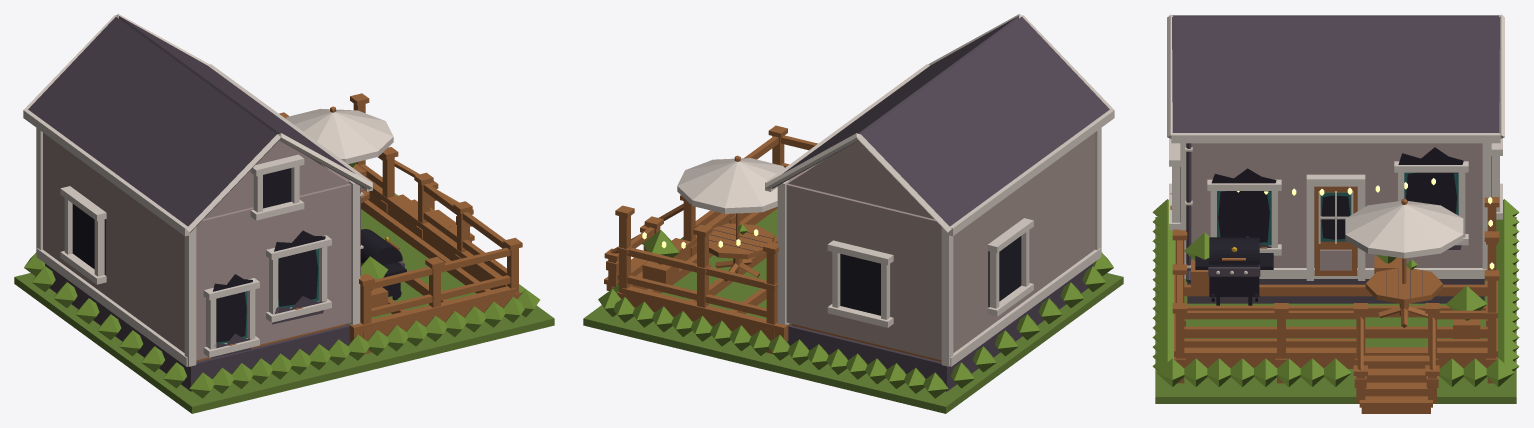
3 views of the same model, side by side, from view 1: azimuth 30°, elevation 25°; view 2: azimuth 150°, elevation 25°; view 3: azimuth 270°, elevation 25° (orthographic).
Parts seen in each view (by area): view 1: root_pal_picketWhite, roof_pal_picketWhite, body_pal_picketWhite, door_grill_lid_pal_picketWhite; view 2: root_pal_picketWhite, roof_pal_picketWhite, body_pal_picketWhite; view 3: root_pal_picketWhite, roof_pal_picketWhite, body_pal_picketWhite, door_back_pal_picketWhite, door_grill_lid_pal_picketWhite.
Boxes of the visible parts, x1,y1,x2,y2 form: root_pal_picketWhite: (14,93,554,413); roof_pal_picketWhite: (23,14,372,236); body_pal_picketWhite: (36,108,393,366); door_grill_lid_pal_picketWhite: (361,229,402,265); root_pal_picketWhite: (583,125,1123,413); roof_pal_picketWhite: (765,14,1114,236); body_pal_picketWhite: (677,128,1101,366); root_pal_picketWhite: (1152,143,1519,413); roof_pal_picketWhite: (1167,14,1504,143); body_pal_picketWhite: (1169,138,1502,280); door_back_pal_picketWhite: (1314,186,1357,275); door_grill_lid_pal_picketWhite: (1209,237,1259,264).
Bounding box in the file's own units: 9.23 × 5.72 × 7.41.
